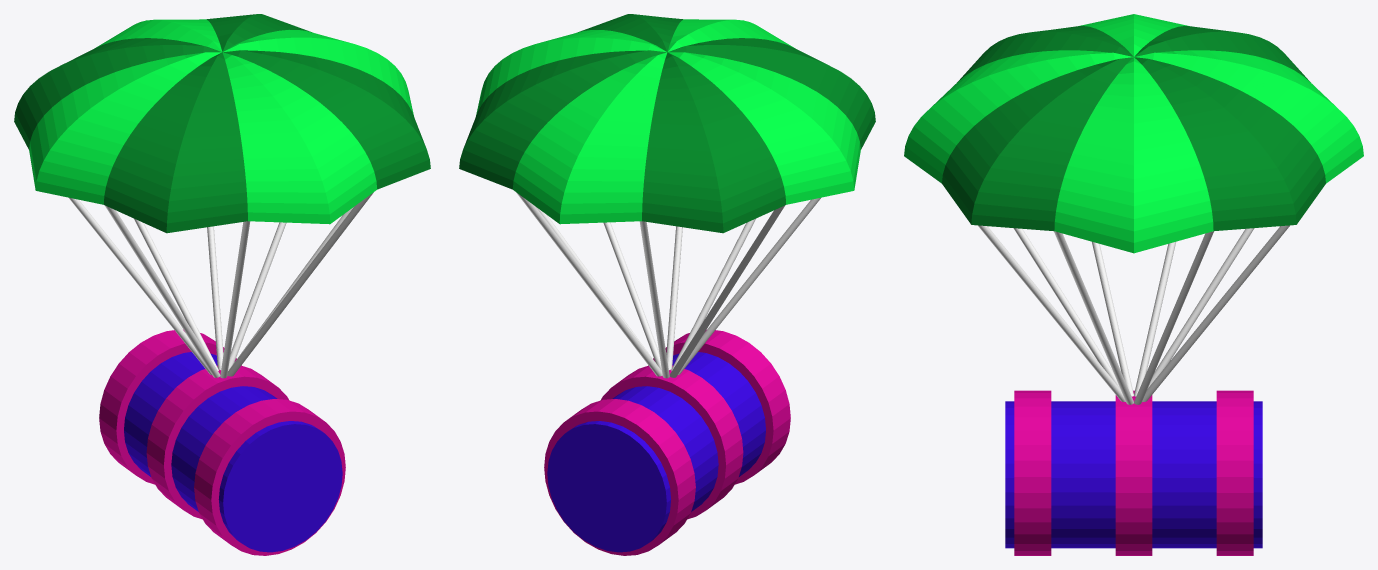
File: ParachuteFuel.dae
3 views of the same model, side by side, from view 1: azimuth 30°, elevation 25°; view 2: azimuth 150°, elevation 25°; view 3: azimuth 270°, elevation 25° (orthographic). The views are drawn at different scales.
Visible parts, largest first — view 1: Sphere, Cylinder, Cylinder.010, Cylinder.008, Cylinder.011, Cylinder.004, Cylinder.007, Cylinder.006, Cylinder.003, Cylinder.000, Cylinder.001, Cylinder.002 (+1 smaller); view 2: Sphere, Cylinder, Cylinder.011, Cylinder.008, Cylinder.010, Cylinder.002, Cylinder.006, Cylinder.007, Cylinder.001, Cylinder.009, Cylinder.003, Cylinder.004 (+1 smaller); view 3: Sphere, Cylinder, Cylinder.010, Cylinder.011, Cylinder.008, Cylinder.002, Cylinder.004, Cylinder.000, Cylinder.009, Cylinder.003, Cylinder.001, Cylinder.006 (+1 smaller).
Boxes of the visible parts, bbox=[...] form: Sphere: bbox=[14, 14, 430, 233]; Cylinder: bbox=[124, 352, 342, 552]; Cylinder.010: bbox=[194, 399, 345, 555]; Cylinder.008: bbox=[146, 365, 289, 519]; Cylinder.011: bbox=[99, 329, 241, 484]; Cylinder.004: bbox=[227, 192, 373, 376]; Cylinder.007: bbox=[69, 197, 211, 374]; Cylinder.006: bbox=[105, 205, 220, 377]; Cylinder.003: bbox=[220, 221, 250, 378]; Cylinder.000: bbox=[228, 222, 286, 370]; Cylinder.001: bbox=[134, 218, 218, 370]; Cylinder.002: bbox=[207, 226, 223, 369]; Sphere: bbox=[459, 14, 875, 233]; Cylinder: bbox=[547, 352, 765, 552]; Cylinder.011: bbox=[544, 399, 695, 555]; Cylinder.008: bbox=[600, 365, 743, 519]; Cylinder.010: bbox=[648, 329, 790, 484]; Cylinder.002: bbox=[516, 192, 662, 376]; Cylinder.006: bbox=[678, 197, 820, 374]; Cylinder.007: bbox=[669, 205, 784, 377]; Cylinder.001: bbox=[639, 221, 669, 378]; Cylinder.009: bbox=[603, 222, 661, 370]; Cylinder.003: bbox=[671, 218, 755, 370]; Cylinder.004: bbox=[666, 226, 682, 369]; Sphere: bbox=[904, 14, 1363, 253]; Cylinder: bbox=[1005, 401, 1262, 548]; Cylinder.010: bbox=[1014, 390, 1051, 555]; Cylinder.011: bbox=[1216, 390, 1253, 555]; Cylinder.008: bbox=[1115, 390, 1152, 555]; Cylinder.002: bbox=[1142, 225, 1289, 401]; Cylinder.004: bbox=[978, 225, 1125, 401]; Cylinder.000: bbox=[1134, 231, 1213, 404]; Cylinder.009: bbox=[1054, 231, 1133, 404]; Cylinder.003: bbox=[1013, 228, 1120, 388]; Cylinder.001: bbox=[1147, 228, 1254, 388]; Cylinder.006: bbox=[1092, 242, 1133, 396].
Size of the model in its own units: 5 by 5 by 5.94.
